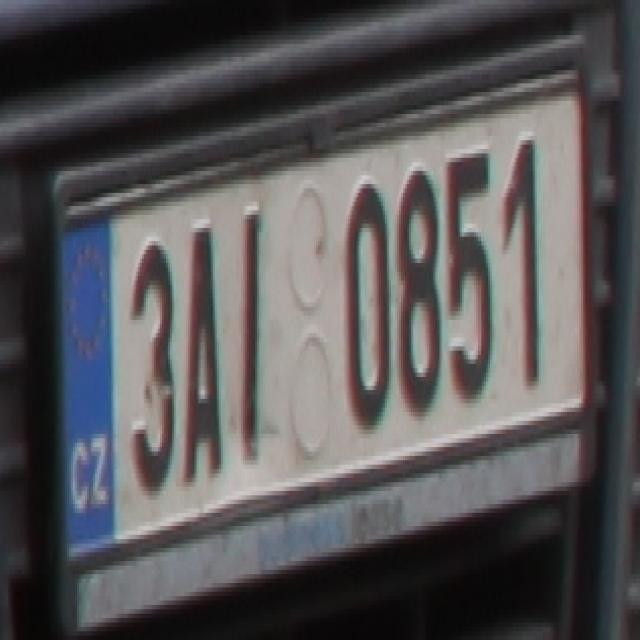0: (340, 171, 393, 430)
1: (498, 131, 541, 399)
3: (126, 241, 176, 491)
5: (444, 144, 492, 408)
8: (397, 167, 444, 425)
A: (182, 219, 223, 478)
